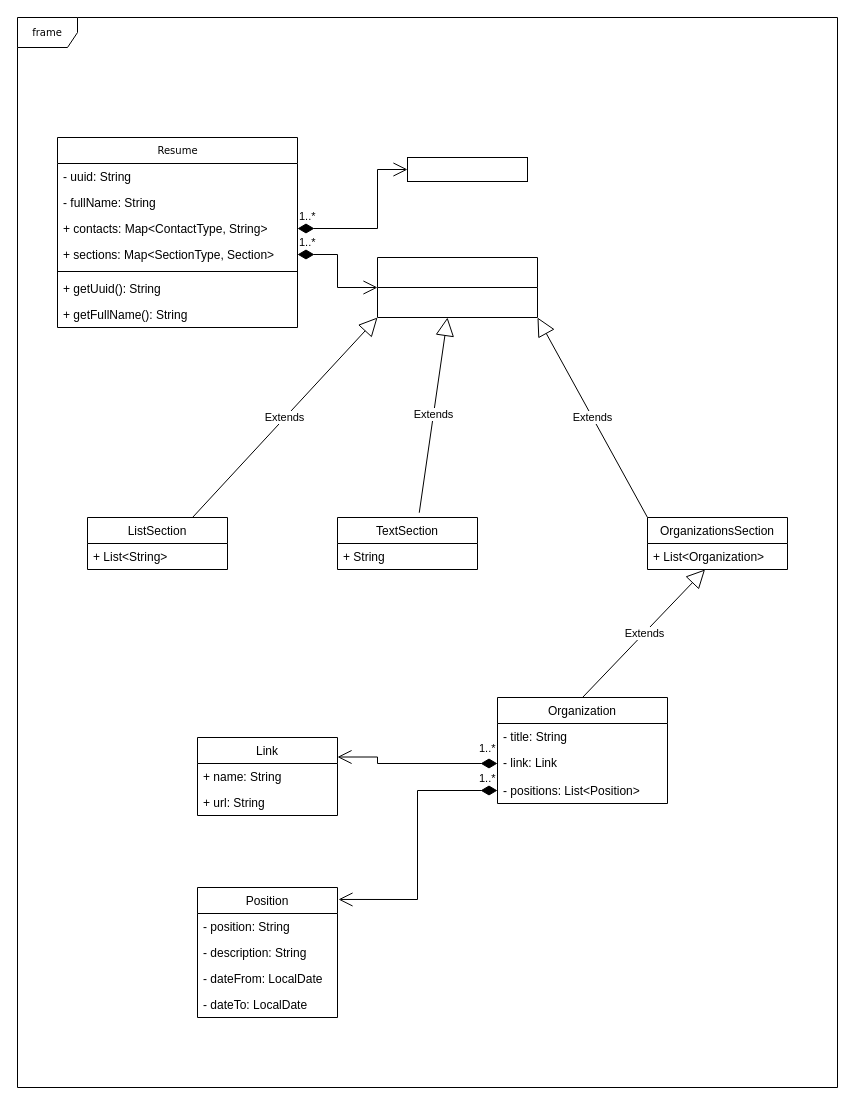
This 855x1105 diagram has some shape labels left out. The shapes that lost their labels are listed below. From the top down, each one's centre as x and y in pixels, then its label:
the point at 467,169: String
the point at 457,287: AbstractSection
